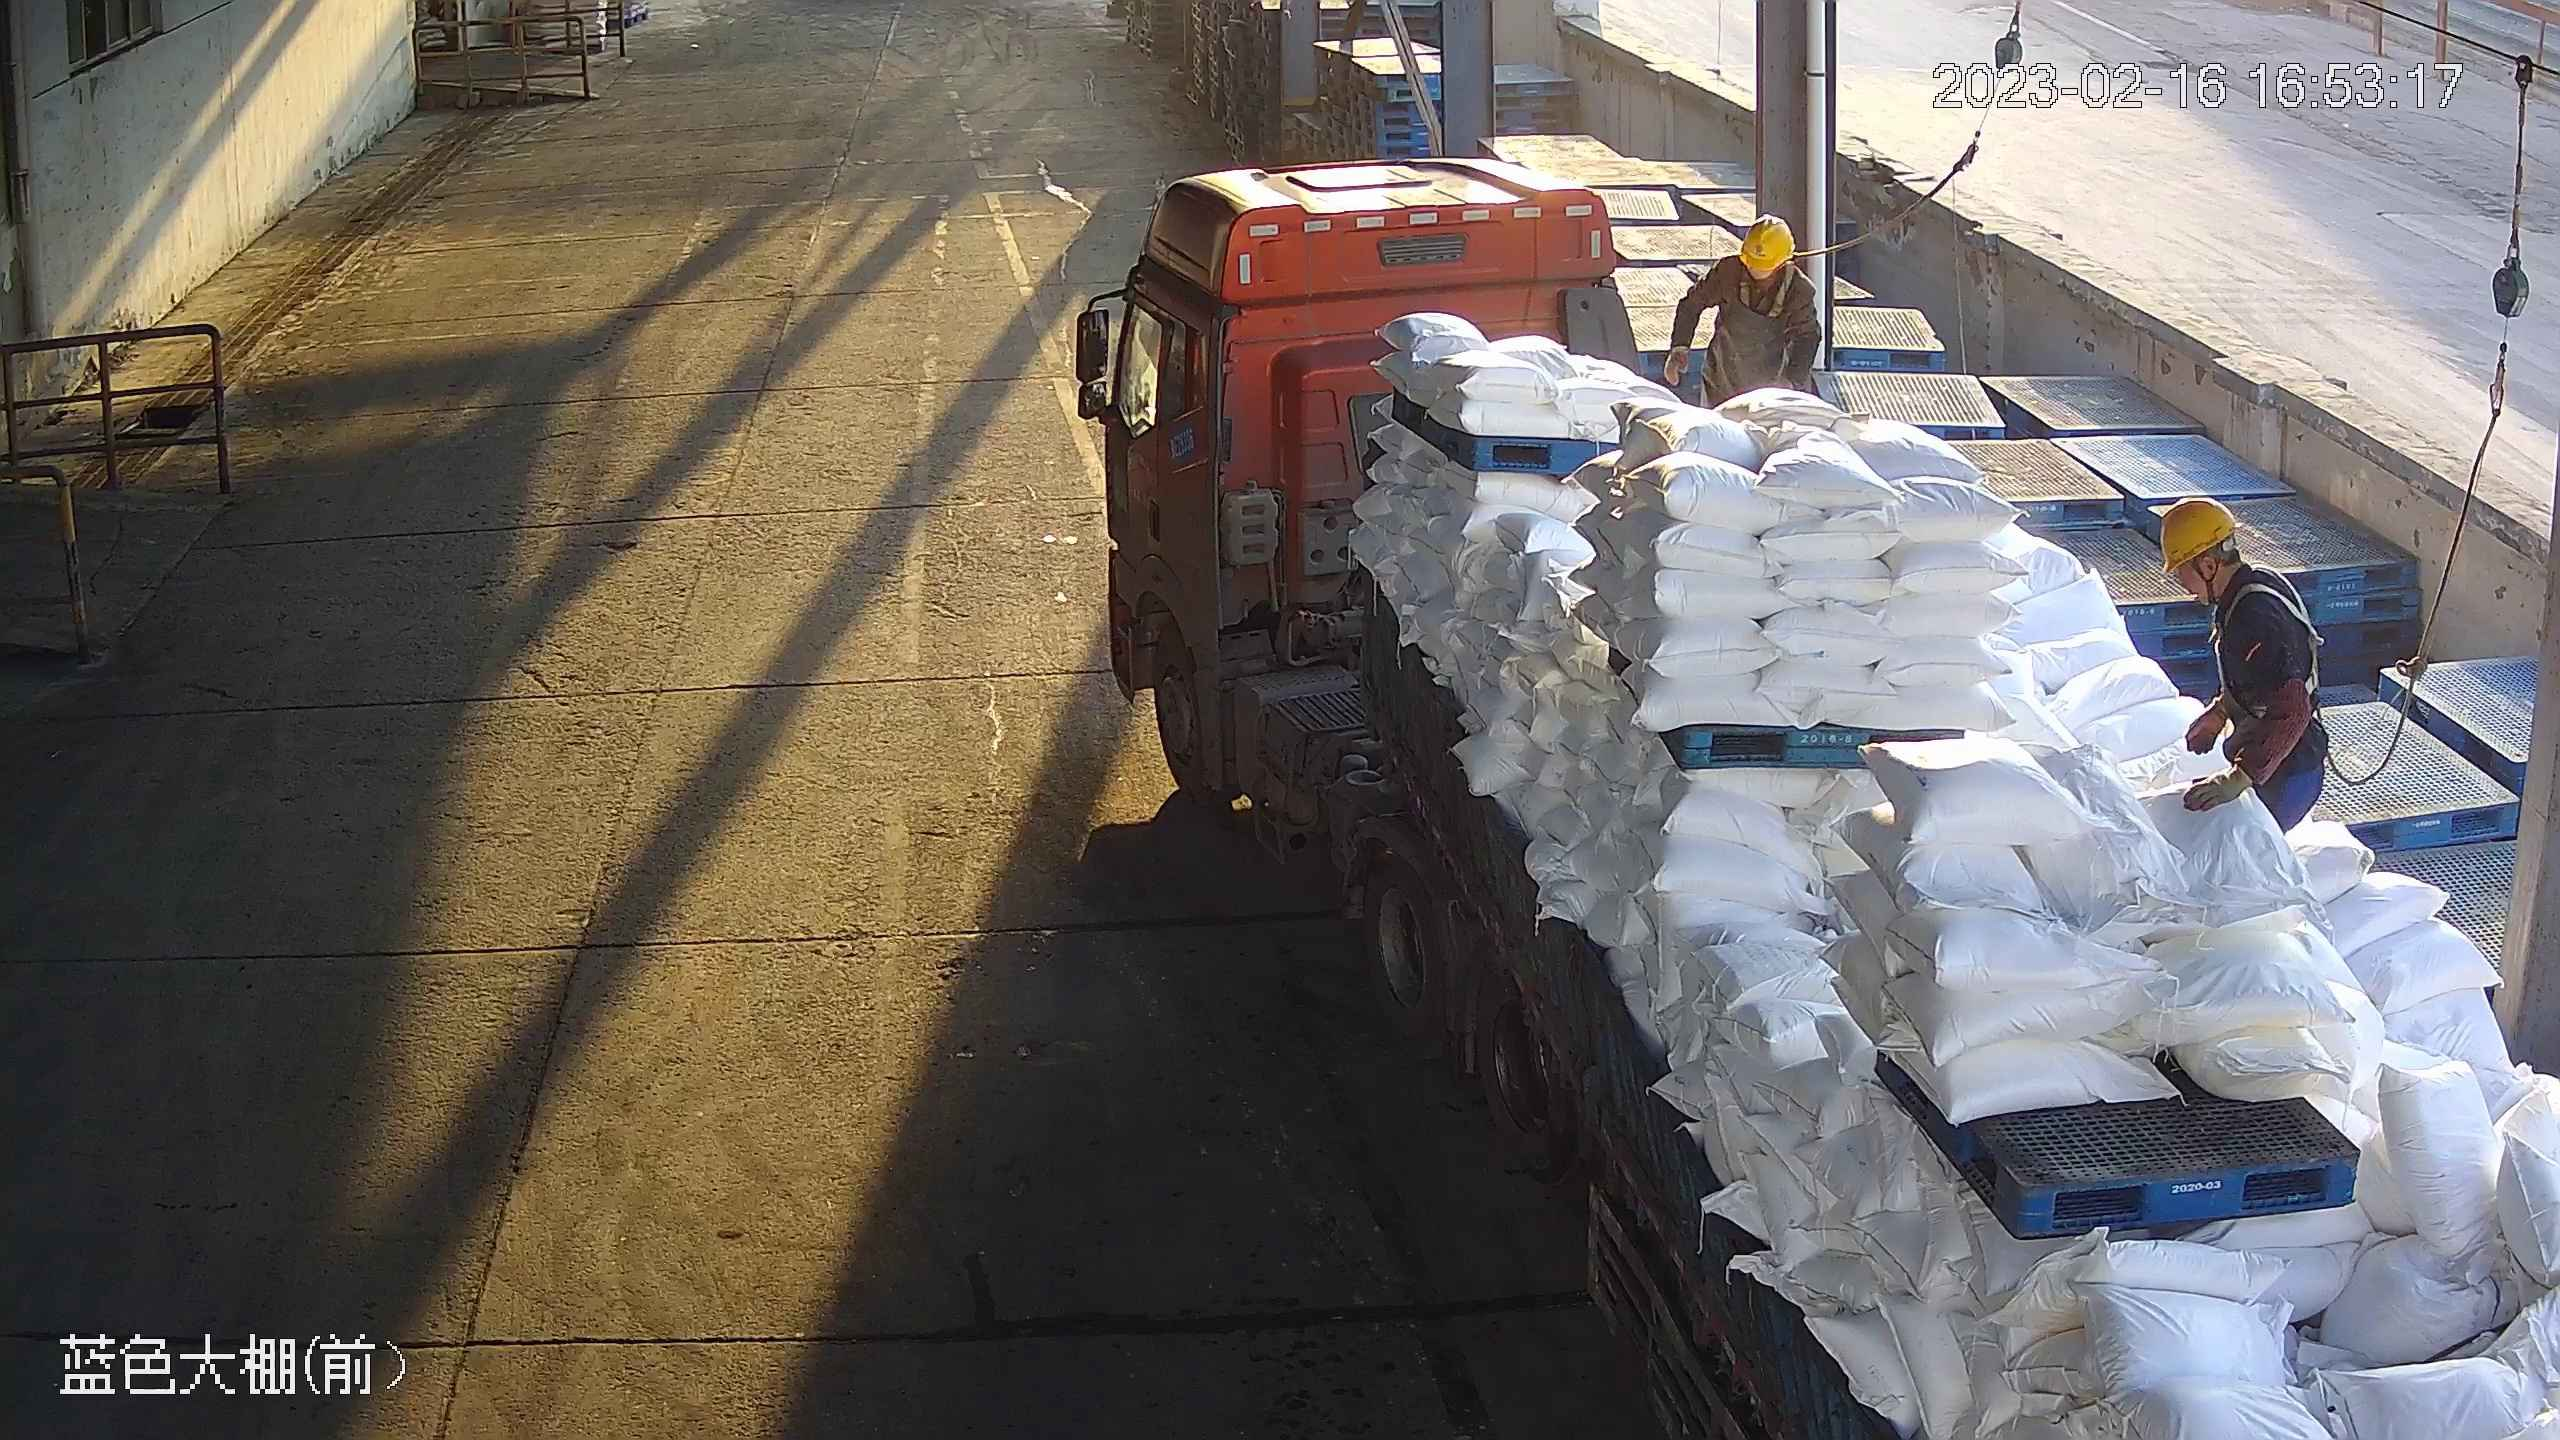belt: (2220, 567, 2337, 699), (1741, 283, 1795, 316)
head: (2153, 501, 2299, 644), (1718, 213, 1816, 301)
helmet: (2149, 493, 2234, 571), (1744, 215, 1793, 271)
truck: (1070, 160, 2560, 1440)
